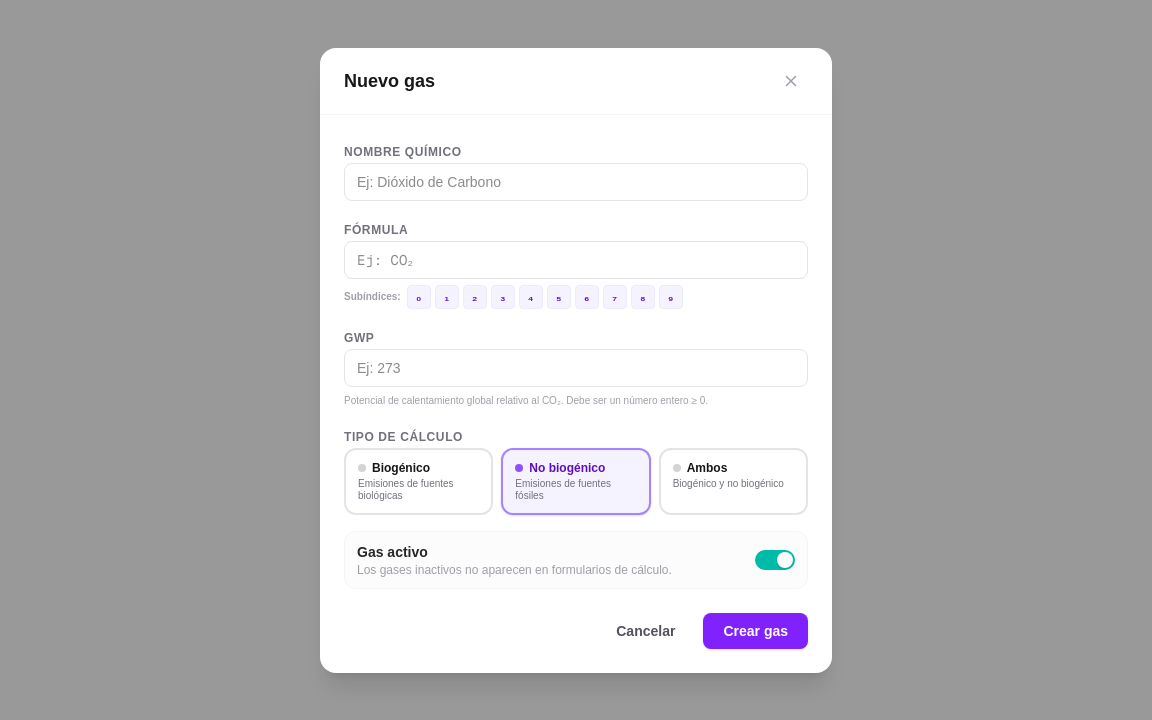
Test: GasFormModal › G-17 — Nombre químico demasiado corto › muestra error cuando el nombre tiene 1 caracter
The image size is (1152, 720).
Type "A" into the field with placeholder "Ej: Dióxido de Carbono".
click(576, 182); type("A")  # box [344,162,808,200]
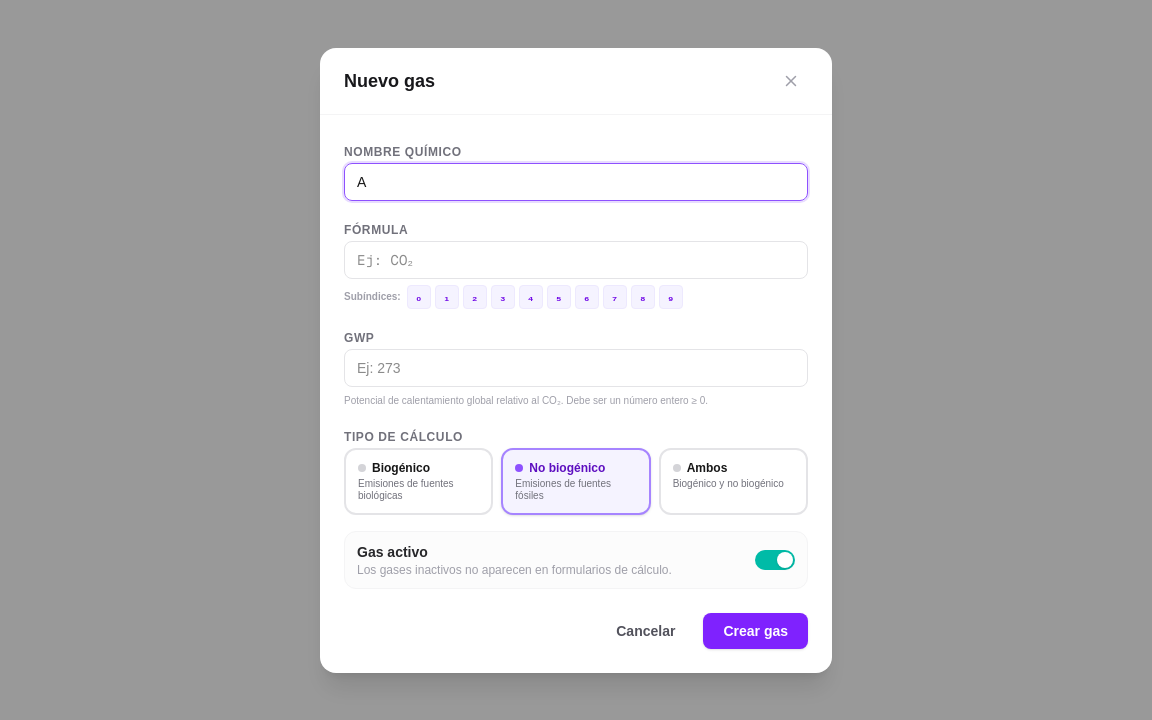
Click the button "Crear gas".
click(756, 630)  # box [703,612,808,648]
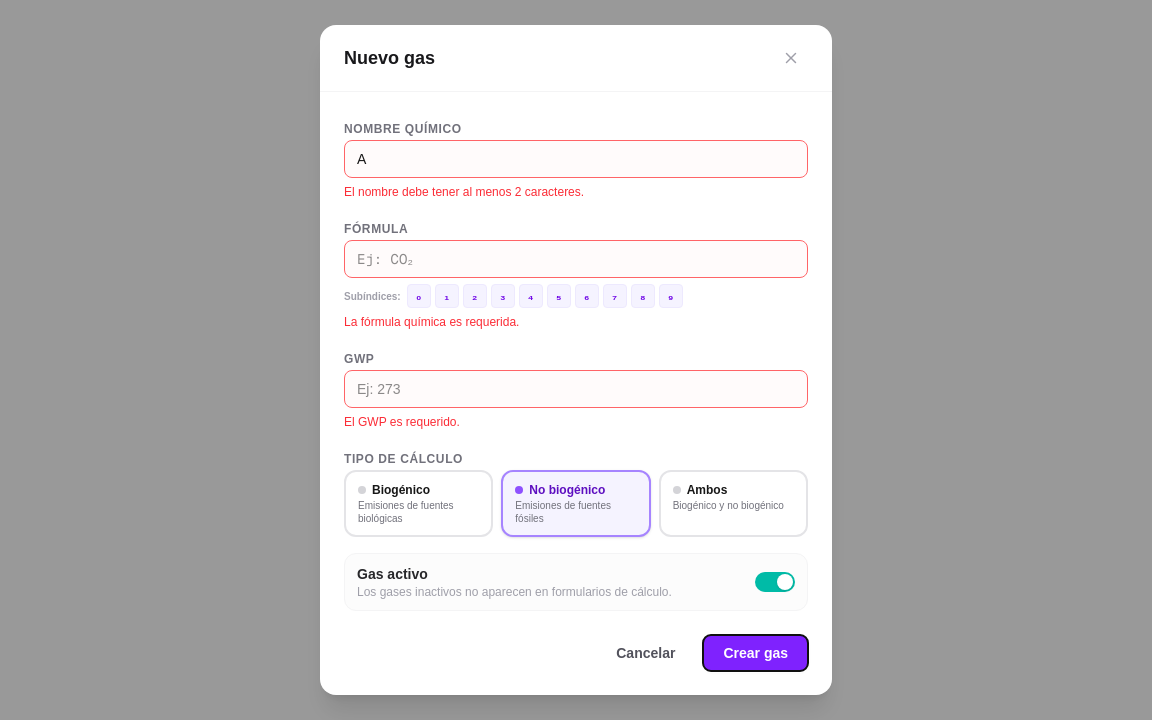
Expected: the text "El nombre debe tener al menos 2 caracteres." is shown, [344,185,584,199]
